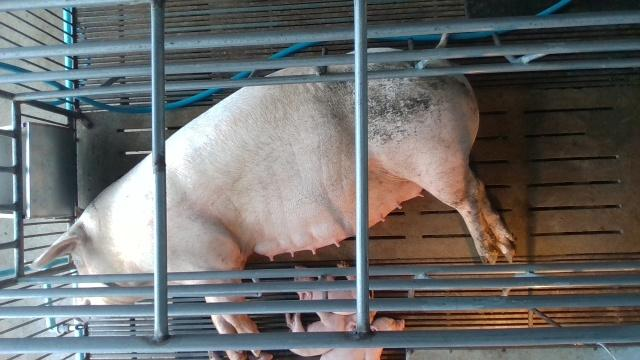piglet: (285, 308, 377, 357), (295, 262, 372, 315), (318, 315, 406, 359)
sow-sleep-lactate: (35, 48, 512, 360)
